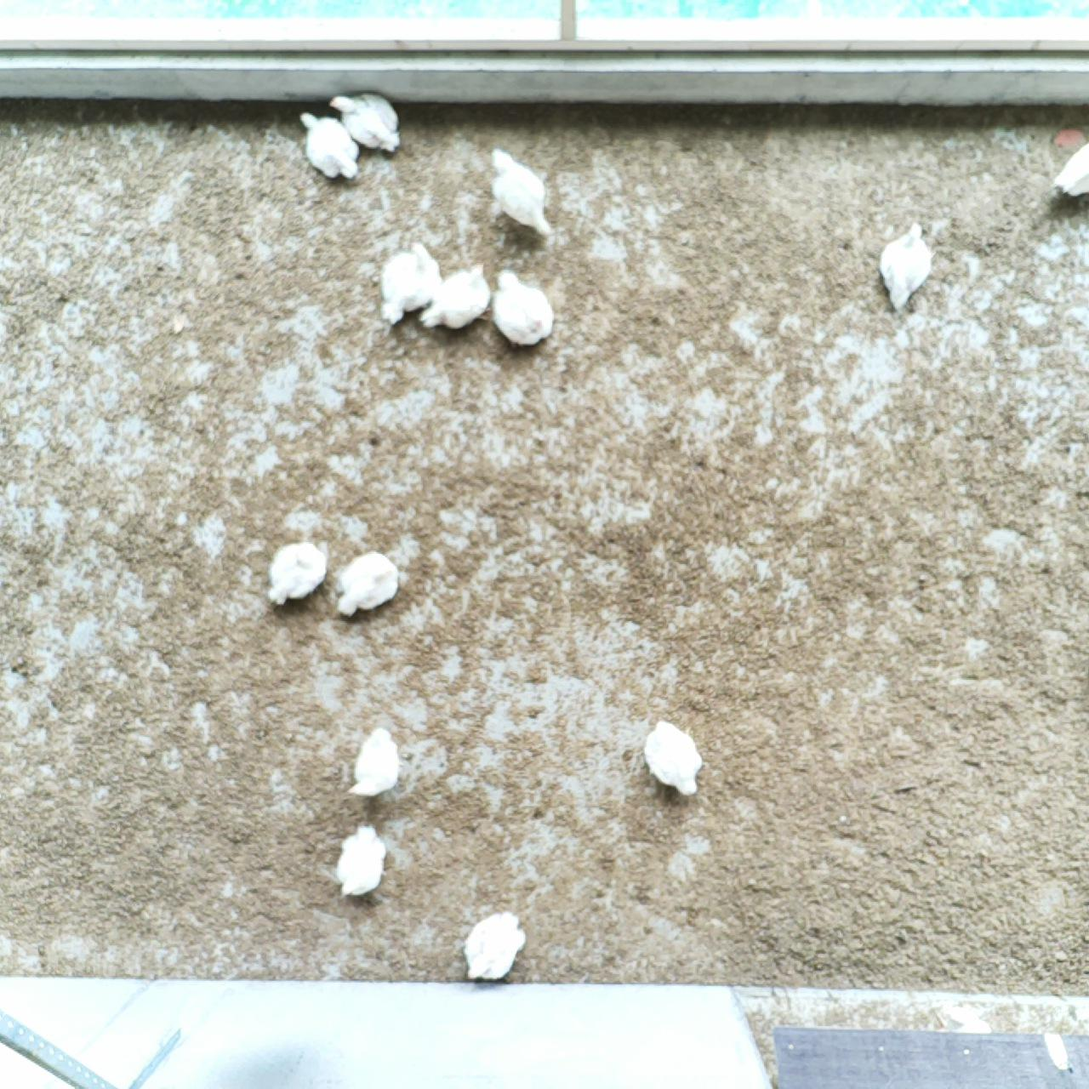chicken: (482, 141, 560, 241), (870, 217, 938, 313), (375, 235, 444, 329), (417, 257, 494, 341), (638, 712, 706, 802), (492, 265, 558, 352), (328, 88, 406, 161), (459, 910, 529, 988), (297, 108, 363, 186), (261, 537, 331, 610), (332, 546, 400, 620), (331, 818, 391, 901), (342, 728, 401, 806), (1048, 134, 1089, 204)
